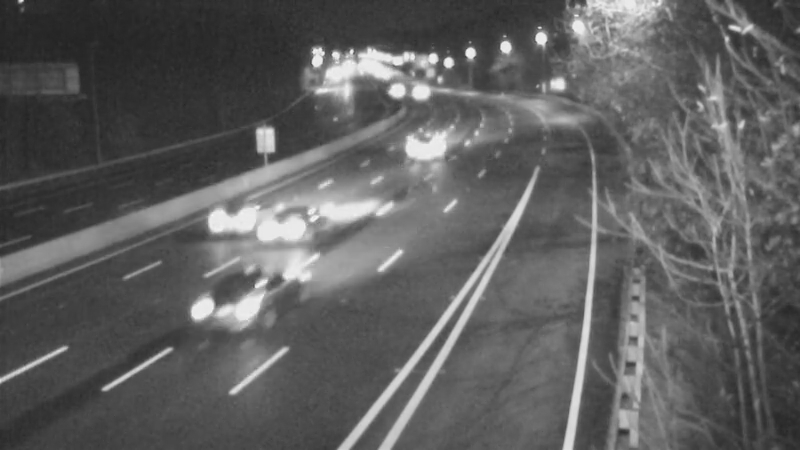vehicle: (166, 251, 276, 361), (188, 176, 268, 256), (249, 184, 329, 264), (391, 64, 441, 114), (361, 62, 411, 112), (410, 117, 460, 167)
